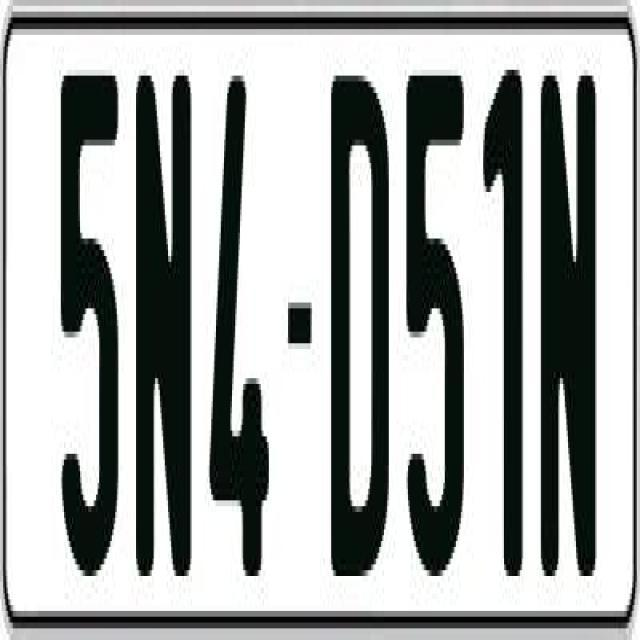1: (480, 52, 526, 588)
4: (205, 58, 272, 558)
5: (402, 58, 461, 588), (58, 58, 117, 558)
D: (328, 64, 389, 576)
N: (134, 76, 196, 606), (538, 76, 594, 594)
